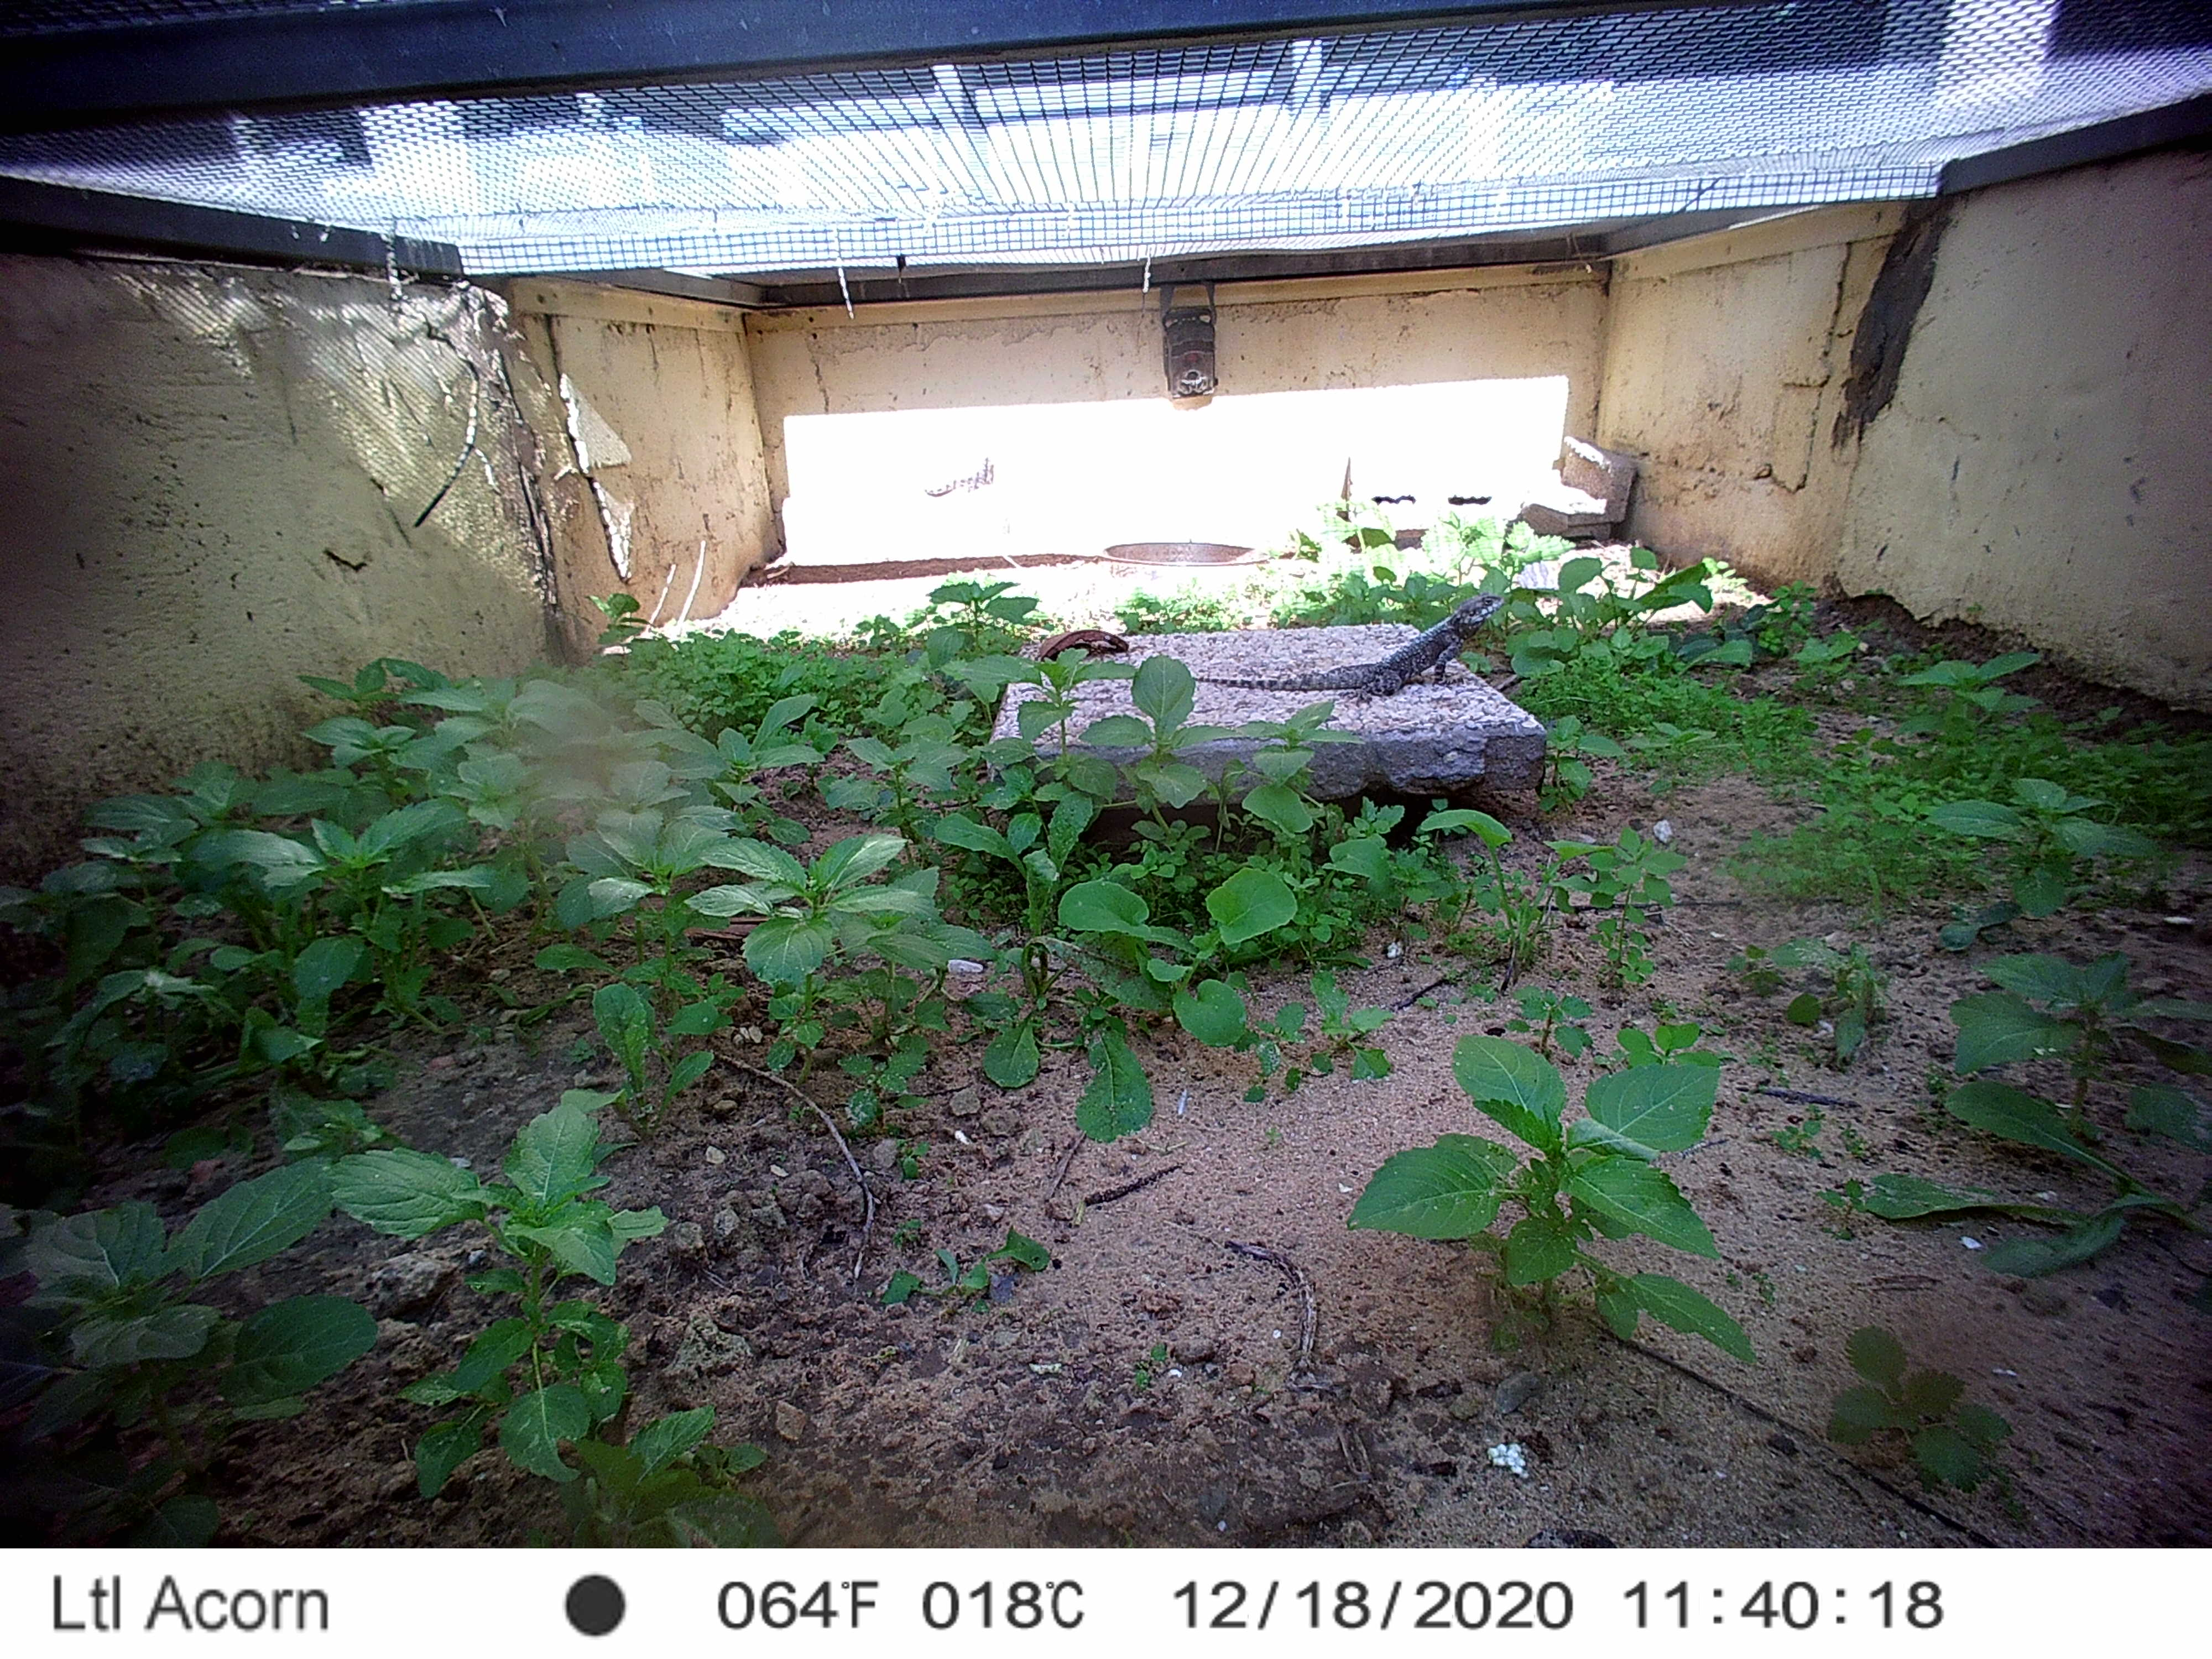lizard: (1165, 589, 1505, 714), (920, 455, 1003, 502)
